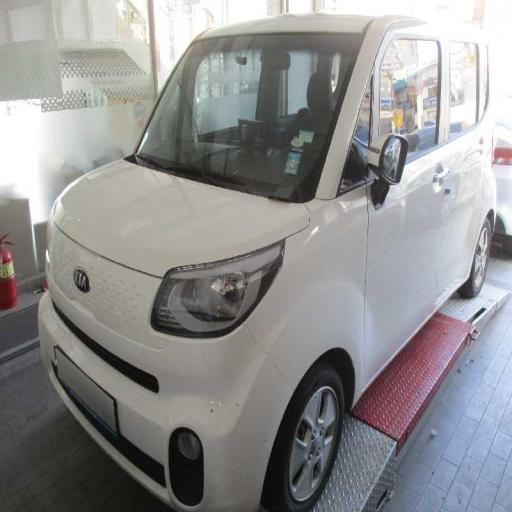normal: (32, 10, 506, 475)
